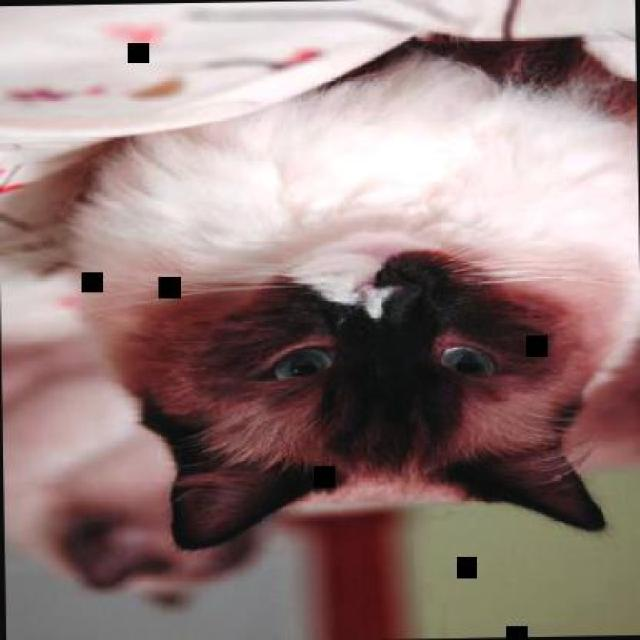cat: (67, 34, 638, 554)
